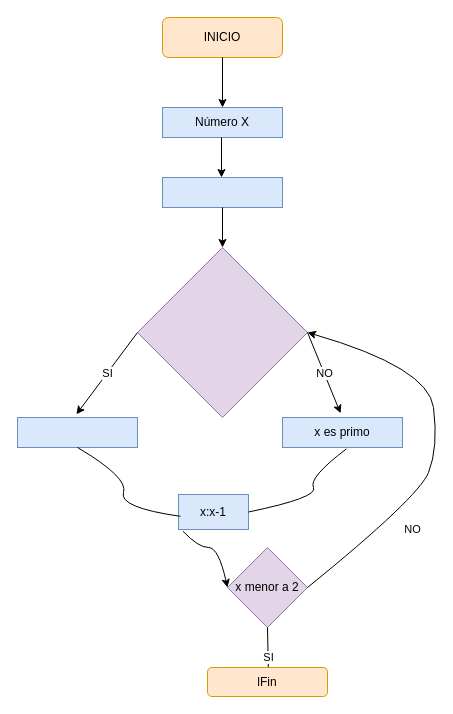
This 453x714 diagram has some shape labels left out. The shapes that lost their labels are listed below. From the top down, each one's centre as x and y in pixels, then its label:
At (x=222, y=192): "Y= Lista de 2,3,5,7".
At (x=222, y=332): "residuo x/2 valores de y=0?".
At (x=77, y=432): "x no es primo".
